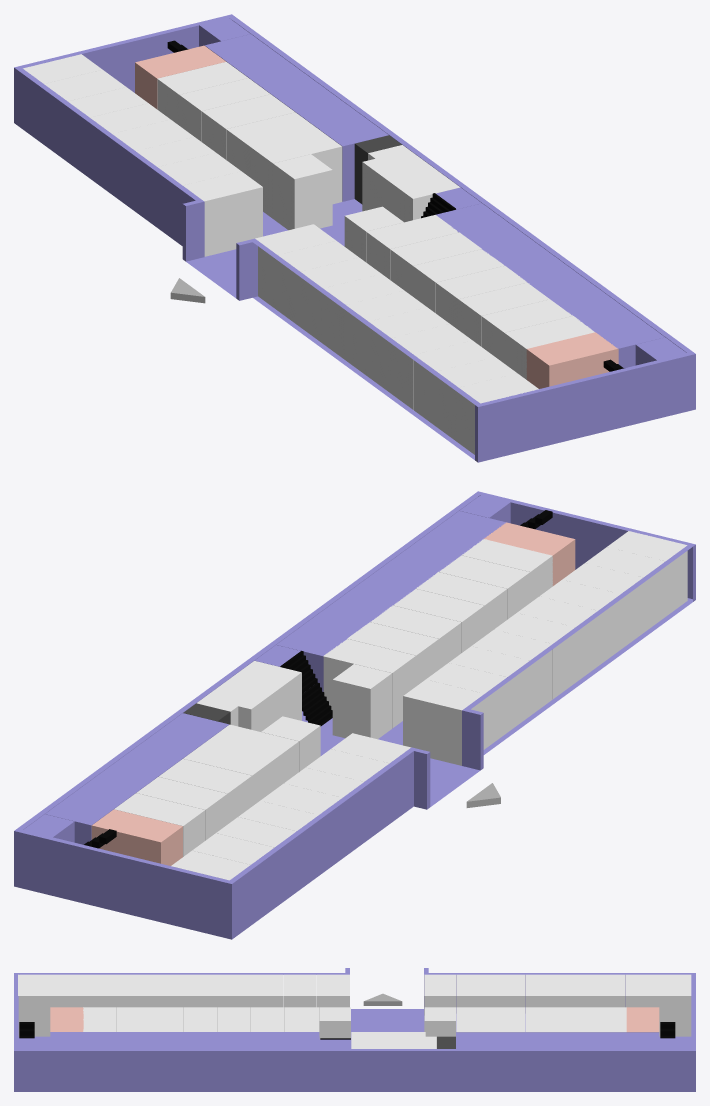
3 renders of one model, top to bottom at view 1: azimuth 30°, elevation 25°; view 2: azimuth 150°, elevation 25°; view 3: azimuth 270°, elevation 25°, orthographic. The views are drawn at different scales.
Parts seen in each view (by area): view 1: object, M832, 8311, 湯沸室_8_3_1, 男子トイレ_8_3_1, 8325, 8309, 8306, 8303, 8305, 8327, 8304 (+25 smaller); view 2: object, M832, 8310, コピー室, 女子トイレ_8_3_1, 8324, 8309, 8305, 8306, 8308, 8307, 8303 (+25 smaller); view 3: object, 8301, 8318, M832, 8312, 8317, 8314, 8310, 8304, 8307, 8306, 8308 (+28 smaller).
Boxes of the visible parts, <box> form: object: <box>14,14,695,462</box>; M832: <box>362,145,460,222</box>; 8311: <box>183,171,262,256</box>; 湯沸室_8_3_1: <box>273,154,332,230</box>; 男子トイレ_8_3_1: <box>526,332,618,388</box>; 8325: <box>250,130,342,218</box>; 8309: <box>277,241,358,326</box>; 8306: <box>345,290,426,376</box>; 8303: <box>414,340,494,426</box>; 8305: <box>368,307,449,393</box>; 8327: <box>201,94,294,159</box>; 8304: <box>391,324,472,409</box>; object: <box>14,491,695,939</box>; M832: <box>196,661,301,731</box>; 8310: <box>403,679,484,765</box>; コピー室: <box>332,664,391,739</box>; 女子トイレ_8_3_1: <box>91,809,182,865</box>; 8324: <box>323,639,416,728</box>; 8309: <box>426,663,507,748</box>; 8305: <box>517,596,598,682</box>; 8306: <box>494,613,575,698</box>; 8308: <box>449,646,529,732</box>; 8307: <box>471,629,552,715</box>; 8303: <box>562,563,643,649</box>; object: <box>14,968,695,1091</box>; 8301: <box>18,974,50,1036</box>; 8318: <box>660,974,691,1036</box>; M832: <box>351,1032,436,1048</box>; 8312: <box>456,974,493,1007</box>; 8317: <box>625,974,659,1036</box>; 8314: <box>525,974,559,1007</box>; 8310: <box>316,974,349,1036</box>; 8304: <box>116,974,149,1031</box>; 8307: <box>216,974,249,1031</box>; 8306: <box>183,974,216,1031</box>; 8308: <box>249,974,282,1031</box>.
Bounding box in the file's own units: 0.8464 × 0.1872 × 2.48.
